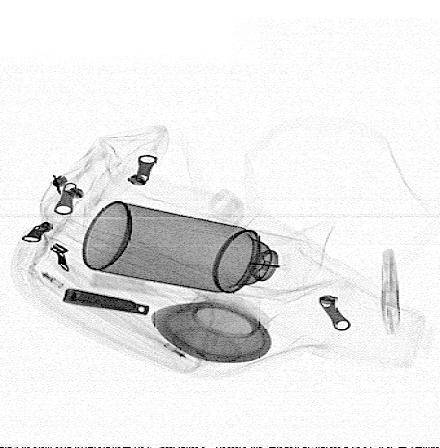Sprayer: (82, 200, 314, 302)
